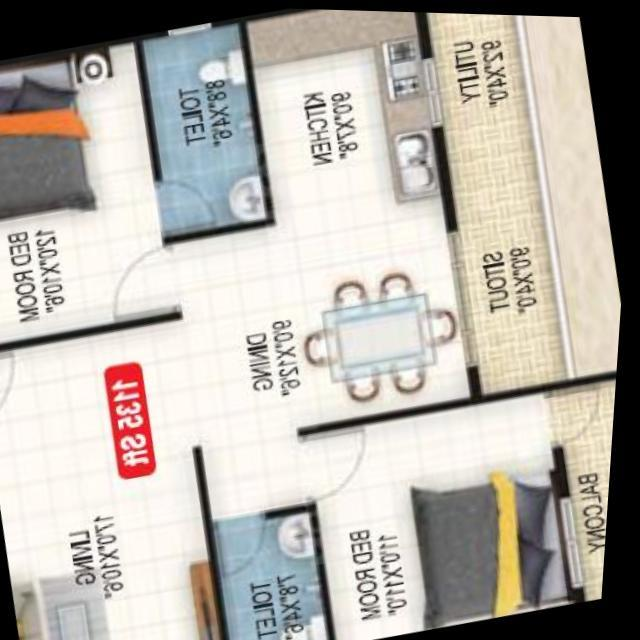Balcony-Sitout: (563, 366, 622, 596)
Bedroom: (300, 380, 596, 640), (0, 34, 185, 351)
Dining: (300, 256, 469, 411)
Kitchen: (244, 7, 453, 228)
Living: (0, 312, 241, 640)
Toilet: (132, 14, 280, 248), (211, 498, 341, 640)
Utility: (413, 10, 579, 400)
